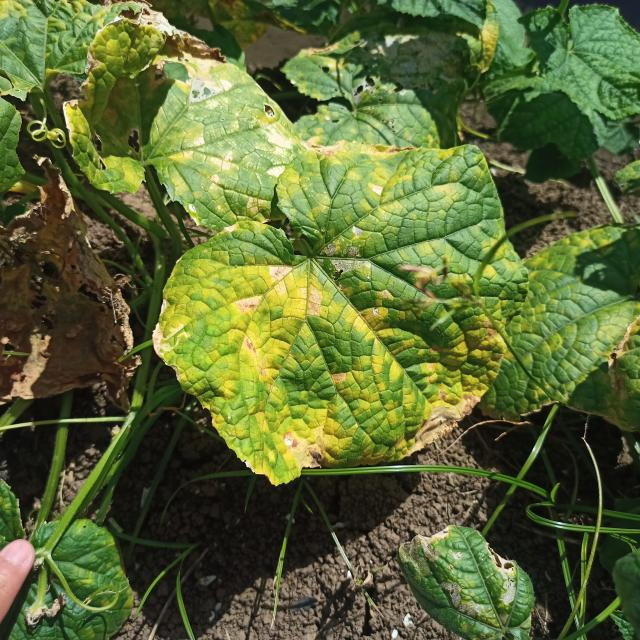disease_cucumber: (158, 140, 523, 482), (115, 49, 326, 233)
